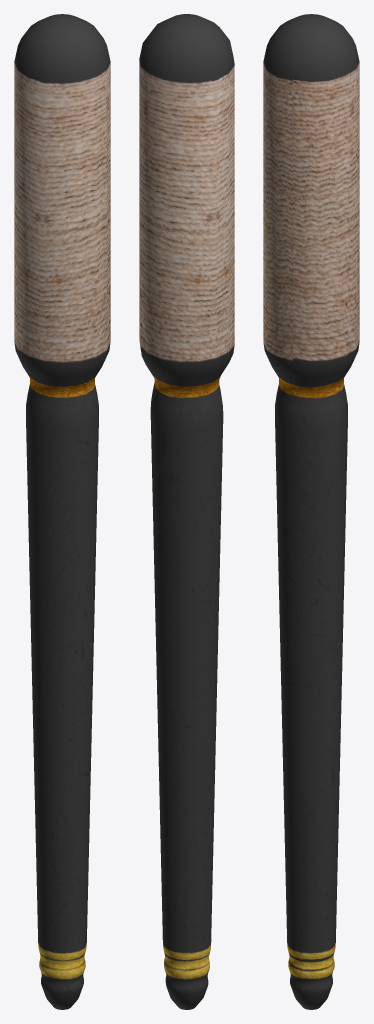
File: pentungan reong.fbx
3 renders of one model, left to right at view 1: azimuth 90°, elevation 25°; view 2: azimuth 150°, elevation 25°; view 3: azimuth 270°, elevation 25°, orthographic.
Visible parts, largest first — view 1: Oil_Tank; view 2: Oil_Tank; view 3: Oil_Tank.
Boxes of the visible parts, left/top/right/bottom form: Oil_Tank: left=14, top=14, right=110, bottom=1009; Oil_Tank: left=139, top=14, right=234, bottom=1009; Oil_Tank: left=263, top=14, right=359, bottom=1009.
Bounding box in the file's own units: 4 × 45.37 × 4.
Materials: 1 (1 with a texture image).
